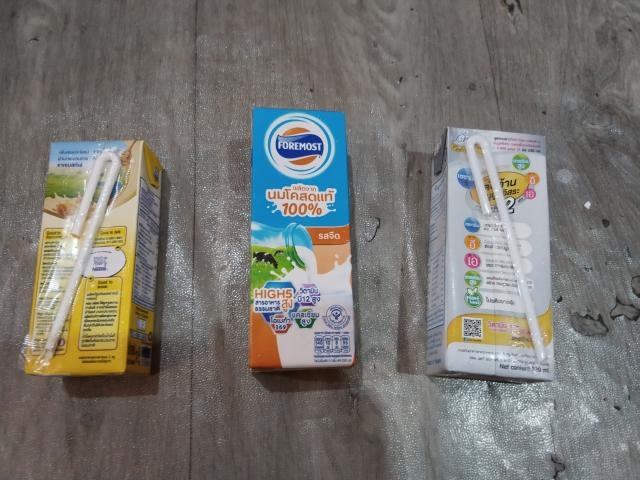drink_box: (428, 121, 558, 389), (242, 100, 357, 374), (33, 136, 159, 381)
